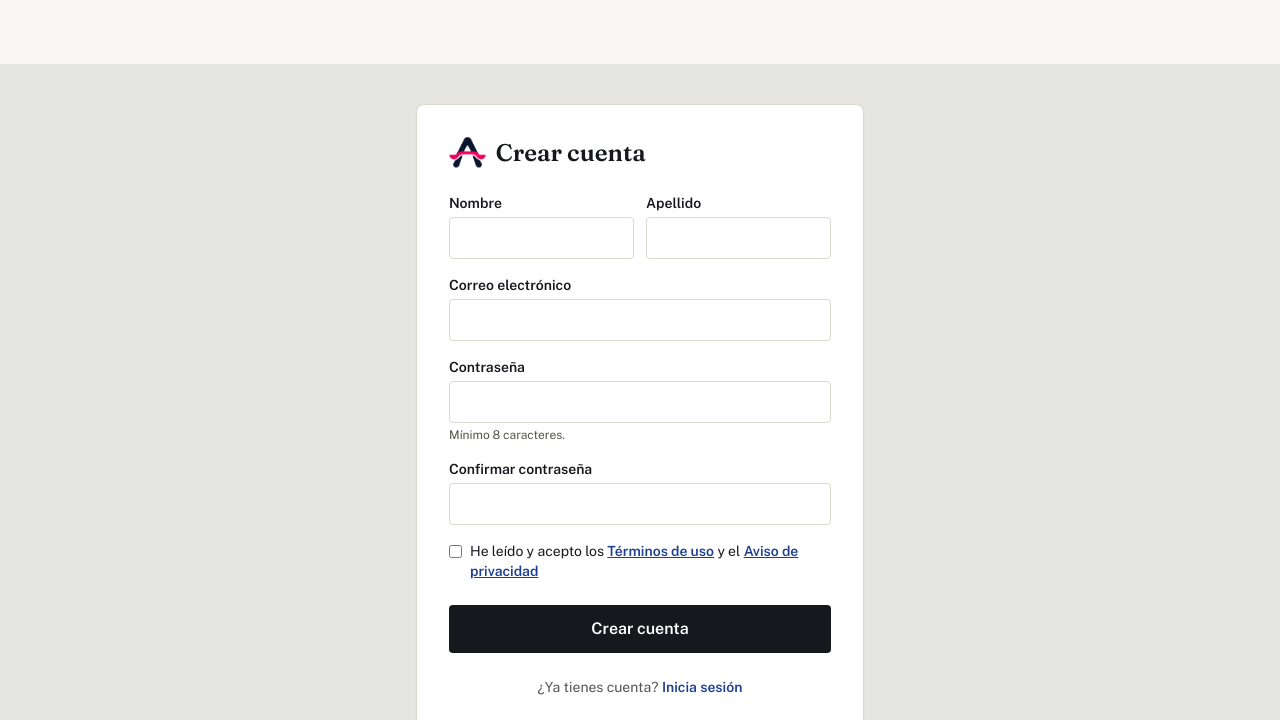
Test: al aceptar se envía acceptedTerms y se avisa de la verificación por correo
Step 1. Type "Ana" into the field labelled "Nombre" → x=542, y=238, box [449, 217, 634, 259]
Step 2. Type "Pérez" into the field labelled "Apellido" → x=738, y=238, box [646, 217, 831, 259]
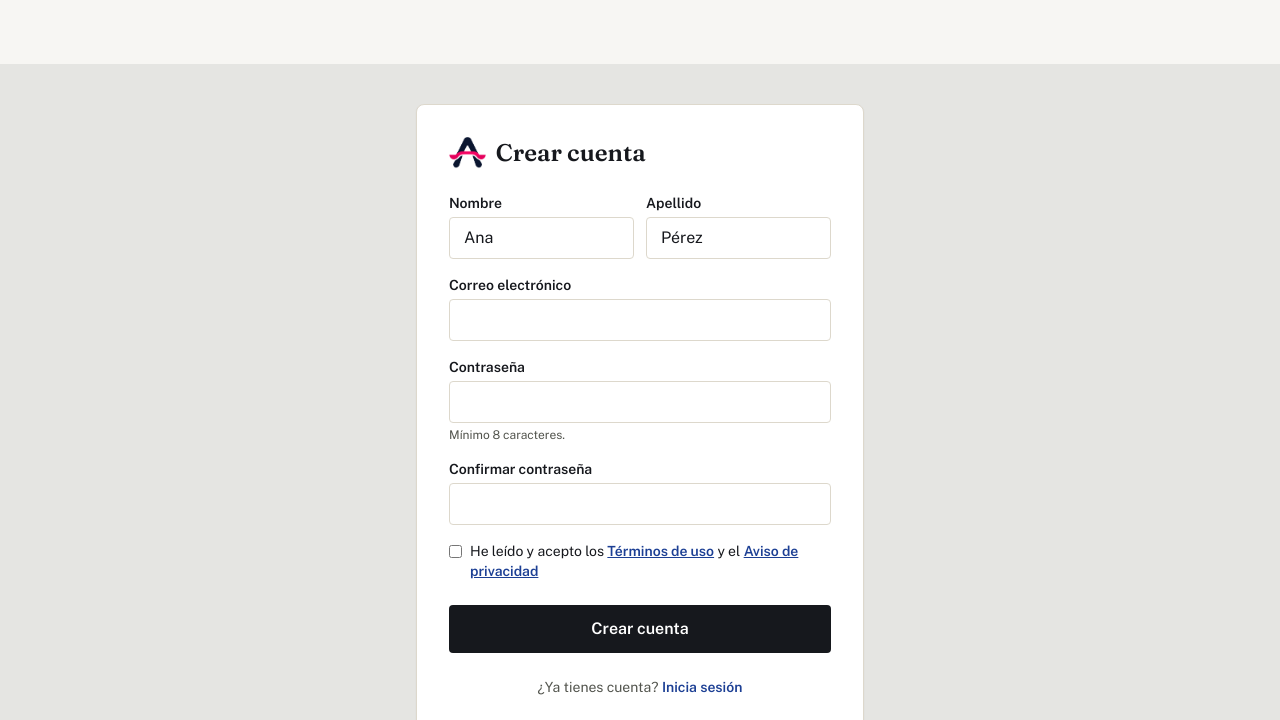
Step 3. Type "ana@correo.com" into the field labelled "Correo electrónico" → x=640, y=320, box [449, 299, 831, 341]
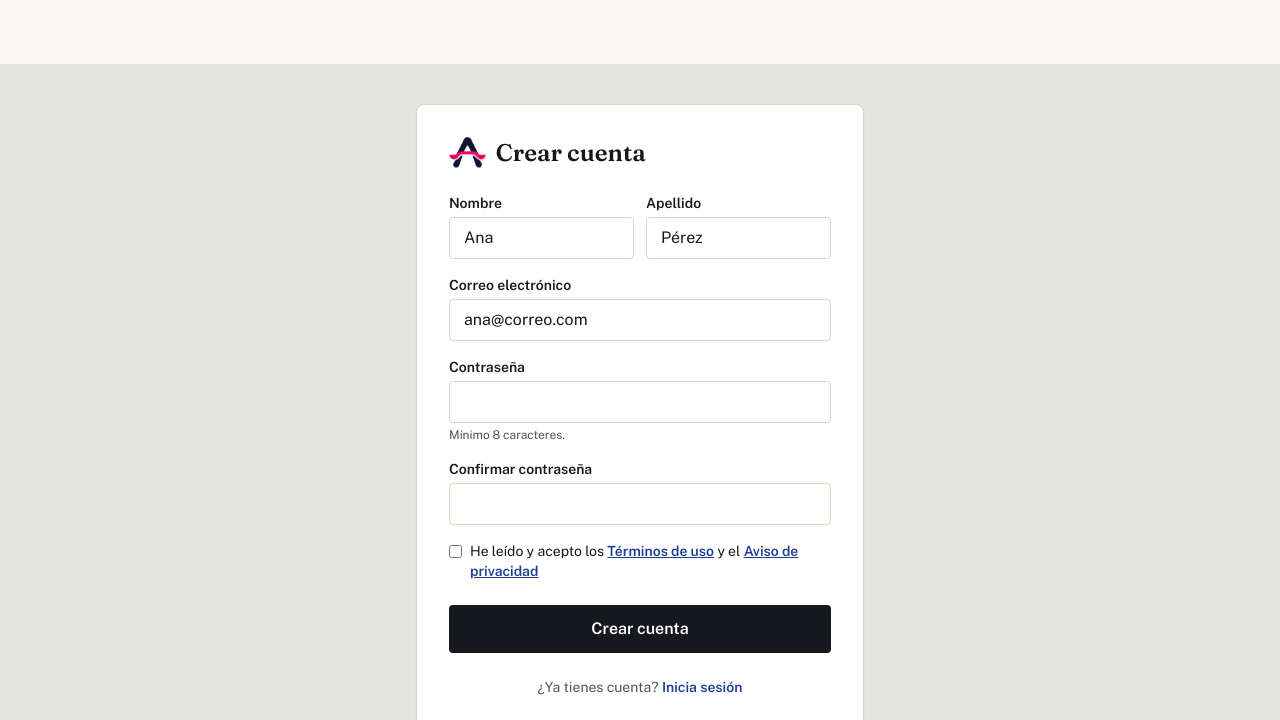
Step 4. Type "secreta123" into the password field labelled "Contraseña" → x=640, y=402, box [449, 381, 831, 423]
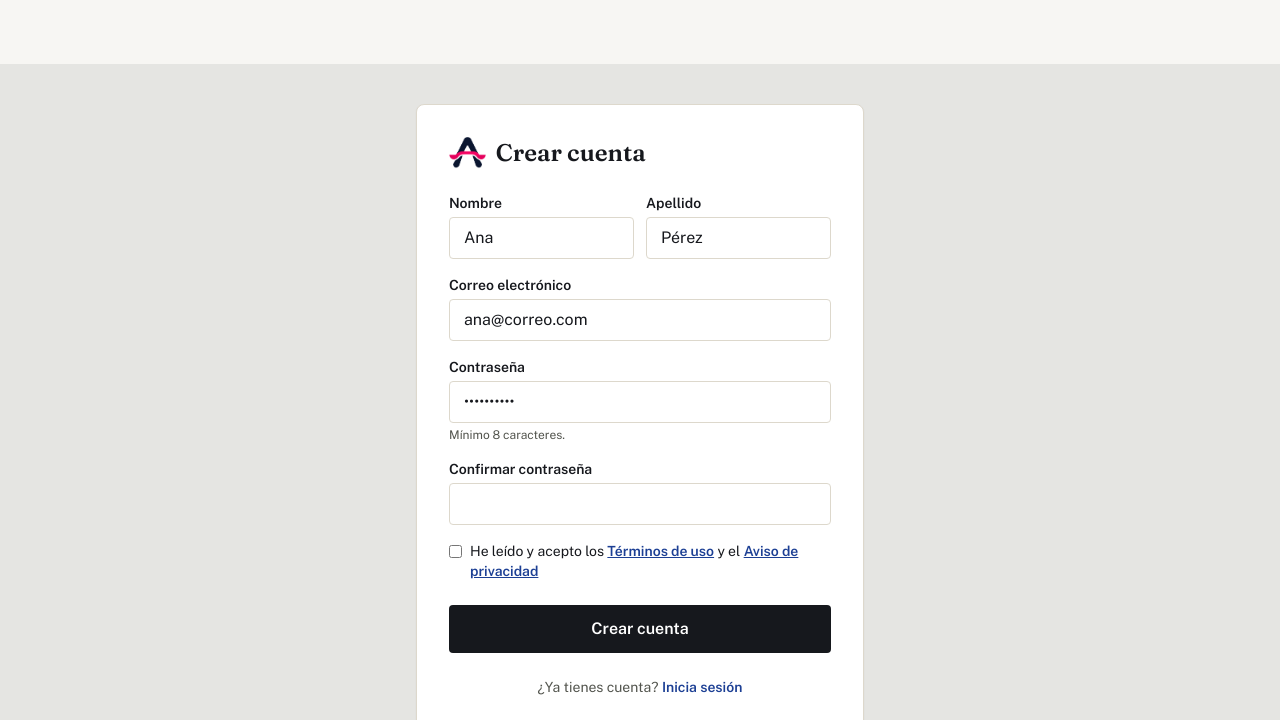
Step 5. Type "secreta123" into the password field labelled "Confirmar contraseña" → x=640, y=504, box [449, 483, 831, 525]
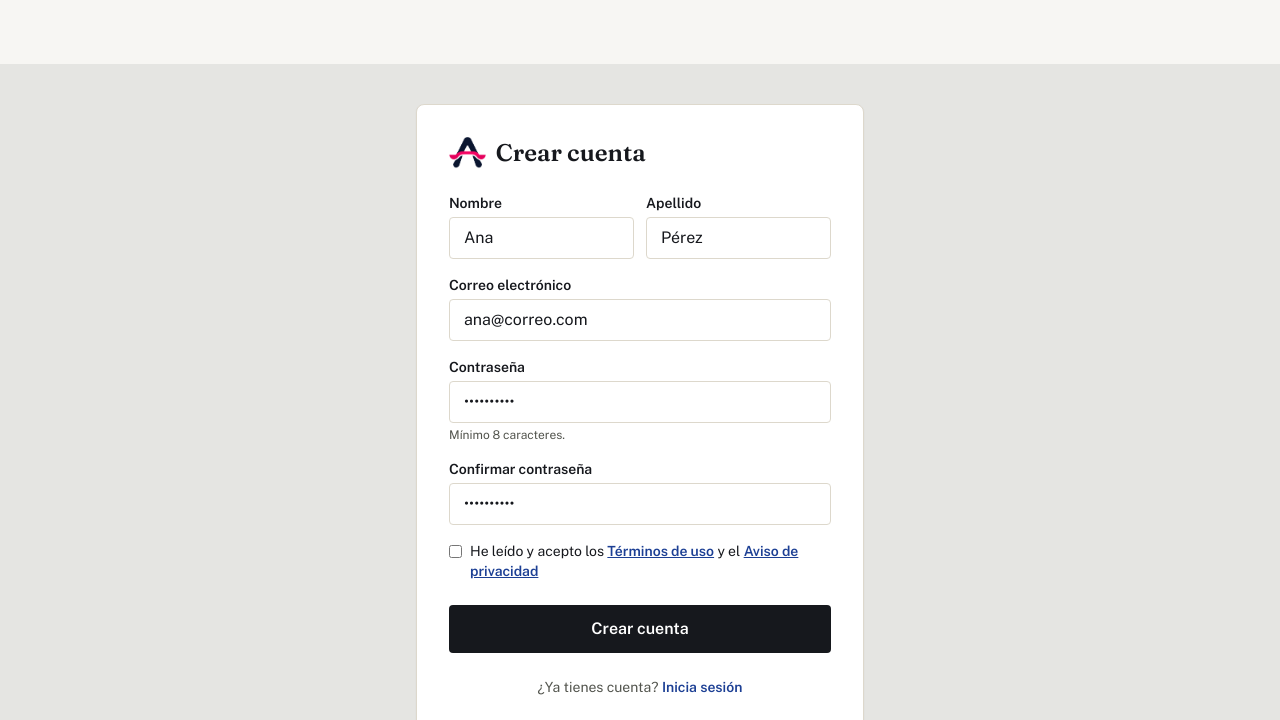
Step 6. Click the checkbox labelled "He leído y acepto" → x=456, y=552, box [449, 545, 462, 558]
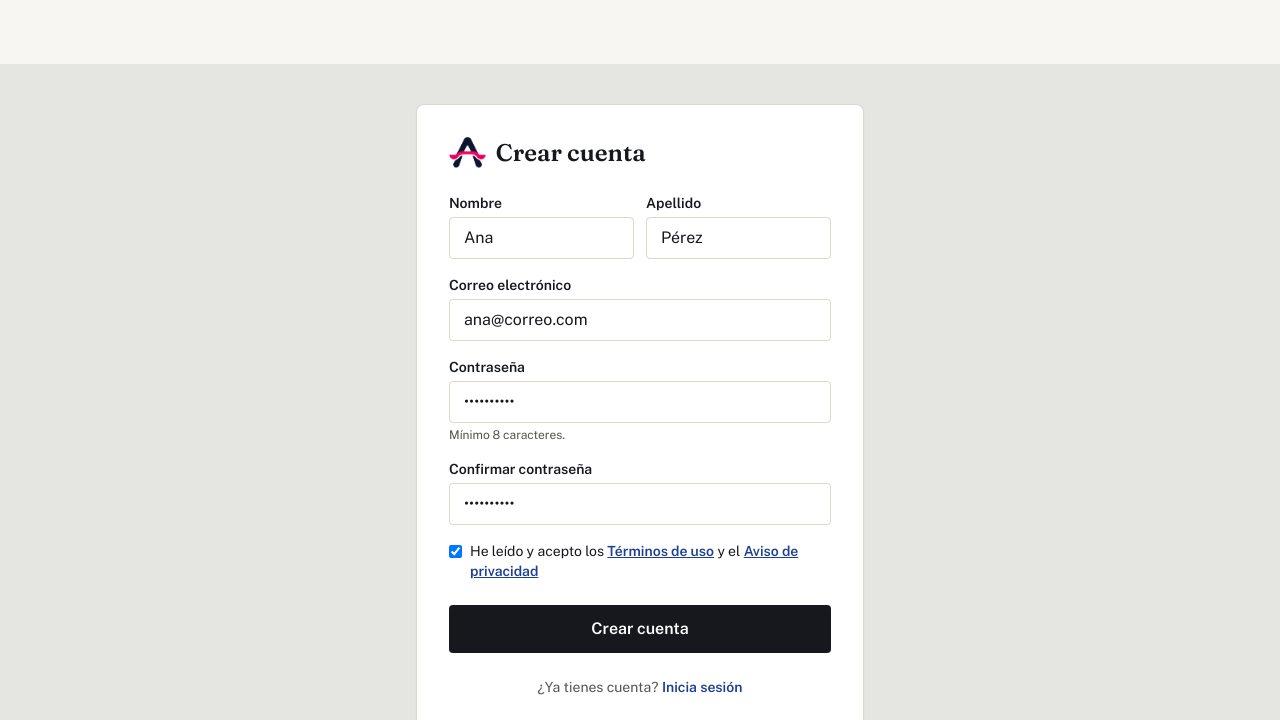
Step 7. Submit the form named "Crear cuenta", box [449, 193, 831, 653]
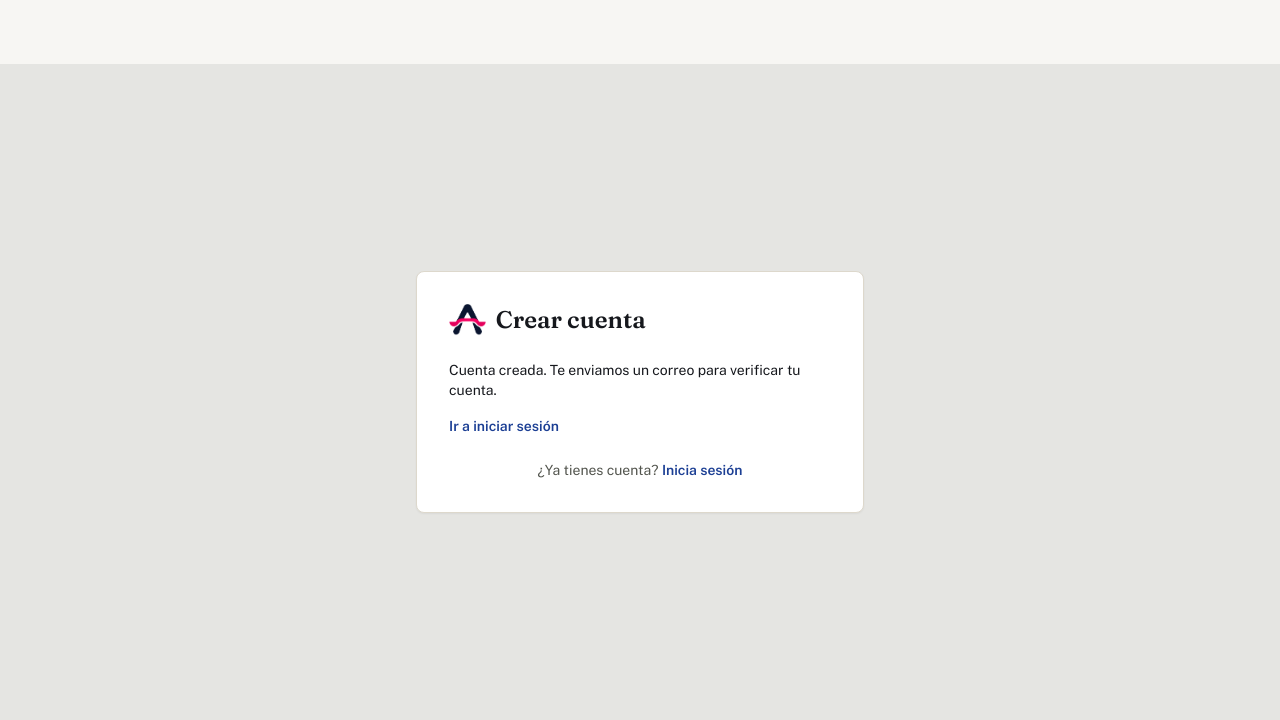
Check: the text "Te enviamos un correo para verificar tu cuenta" is shown, box [449, 362, 800, 398]
